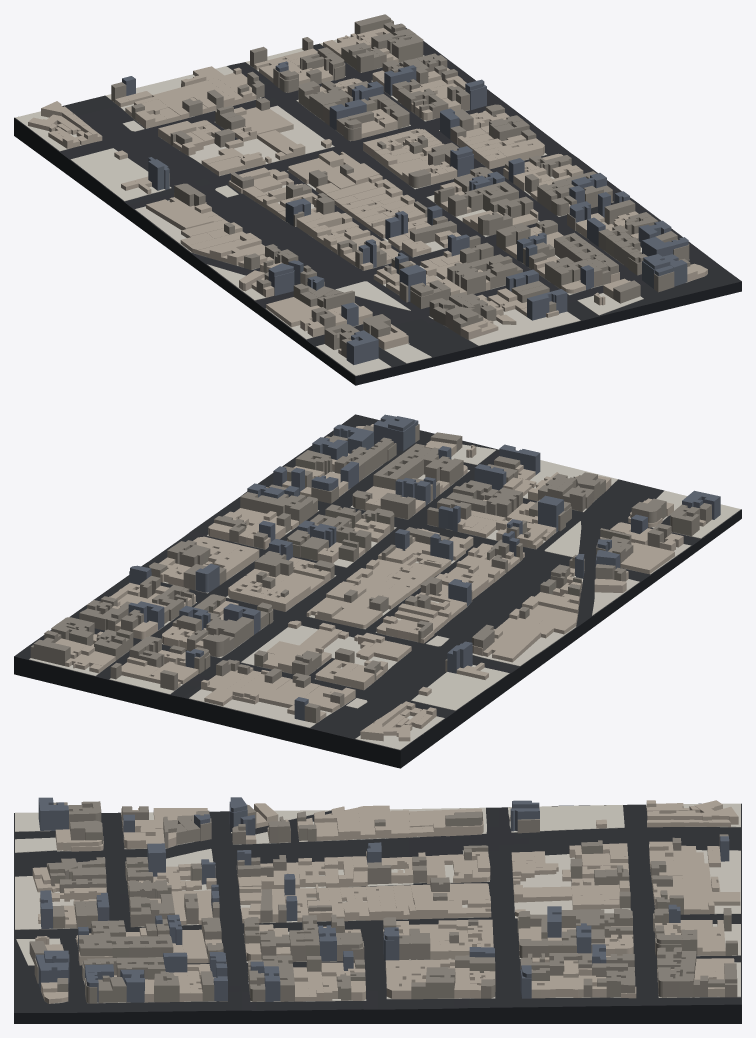
The model's file is maqueta_1vty_antes.glb.
3 renders of one model, top to bottom at view 1: azimuth 30°, elevation 25°; view 2: azimuth 150°, elevation 25°; view 3: azimuth 270°, elevation 25°, orthographic. The views are drawn at different scales.
Parts seen in each view (by area): view 1: Antes_Edif_1_2P, Antes_Edif_3_4P, Base_Maqueta_Plinto, Antes_Edif_5P_Mas, Antes_Manzanas_Catastro; view 2: Antes_Edif_1_2P, Antes_Edif_3_4P, Base_Maqueta_Plinto, Antes_Edif_5P_Mas, Antes_Manzanas_Catastro; view 3: Base_Maqueta_Plinto, Antes_Edif_1_2P, Antes_Edif_3_4P, Antes_Edif_5P_Mas, Antes_Manzanas_Catastro.
Part boxes in pixels (x1,y1,x2,y2): Antes_Edif_1_2P: (28, 27, 707, 354); Antes_Edif_3_4P: (111, 14, 690, 357); Base_Maqueta_Plinto: (14, 23, 741, 385); Antes_Edif_5P_Mas: (122, 61, 688, 364); Antes_Manzanas_Catastro: (15, 36, 707, 375); Antes_Edif_1_2P: (55, 424, 705, 741); Antes_Edif_3_4P: (30, 424, 711, 723); Base_Maqueta_Plinto: (14, 414, 741, 768); Antes_Edif_5P_Mas: (128, 414, 720, 720); Antes_Manzanas_Catastro: (29, 444, 740, 749); Base_Maqueta_Plinto: (14, 803, 741, 1023); Antes_Edif_1_2P: (32, 800, 740, 1003); Antes_Edif_3_4P: (29, 801, 737, 1003); Antes_Edif_5P_Mas: (35, 797, 729, 1002); Antes_Manzanas_Catastro: (15, 803, 740, 1003).
Size of the model in its own units: 0.664 by 0.0629 by 1.02.
